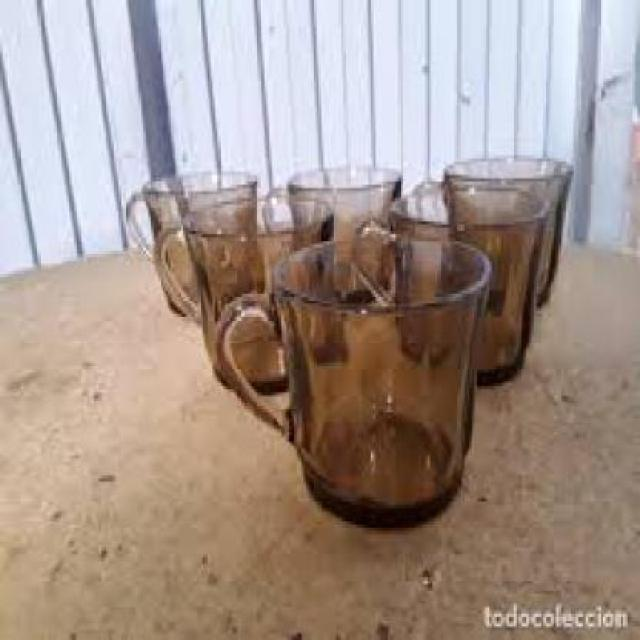kaca: (208, 230, 489, 528), (351, 179, 543, 383), (151, 192, 331, 394), (414, 152, 569, 300), (262, 158, 400, 297), (123, 169, 257, 311)
